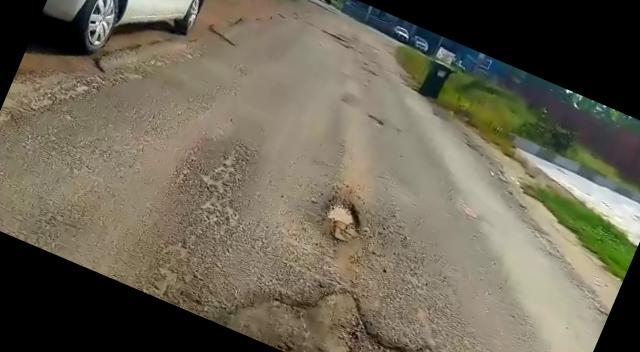pothole: (213, 248, 577, 352), (317, 191, 372, 246)
